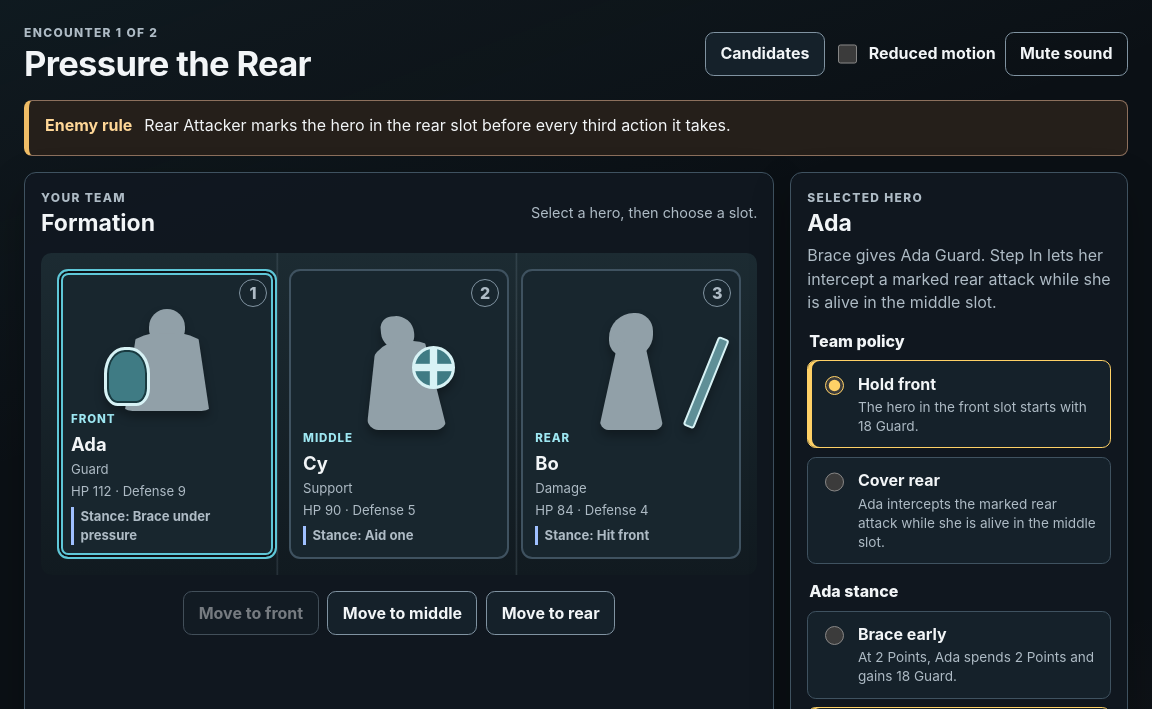
Test: candidate draft lab › records one favorite and clears it when the player asks for a new set
Click the button "Candidates" at {"x": 765, "y": 54}, box [705,32,825,76]
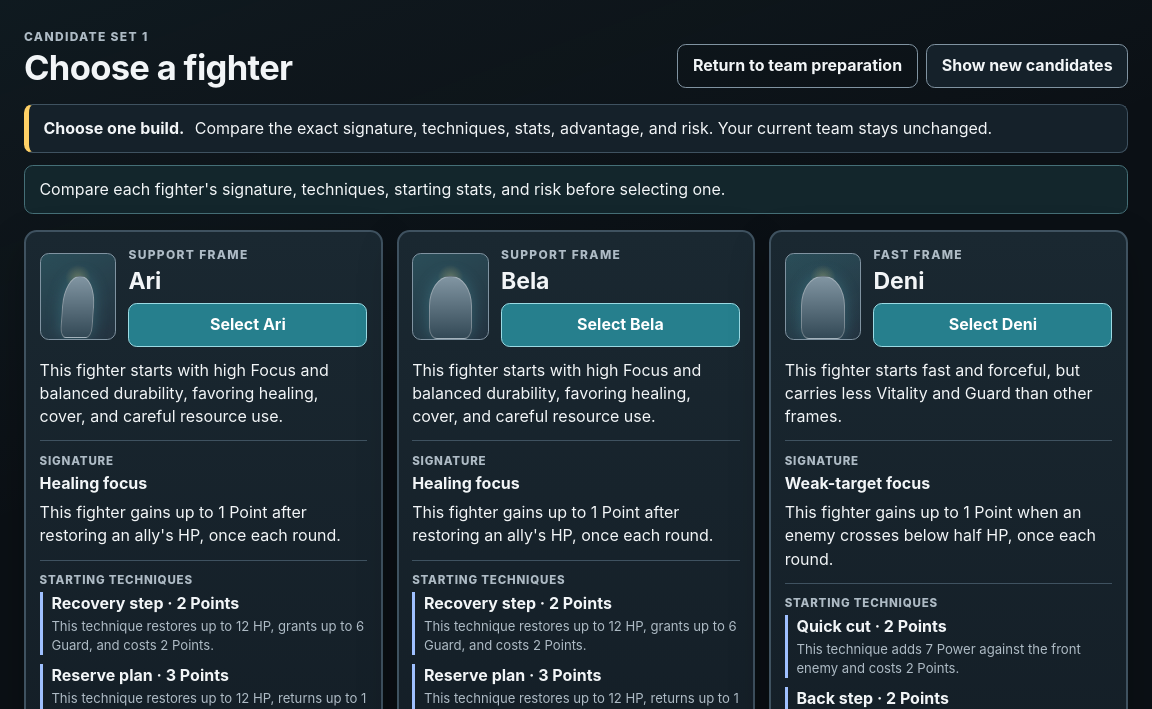
Click the button "Select Ari" at {"x": 248, "y": 325}, box [128,303,367,347]
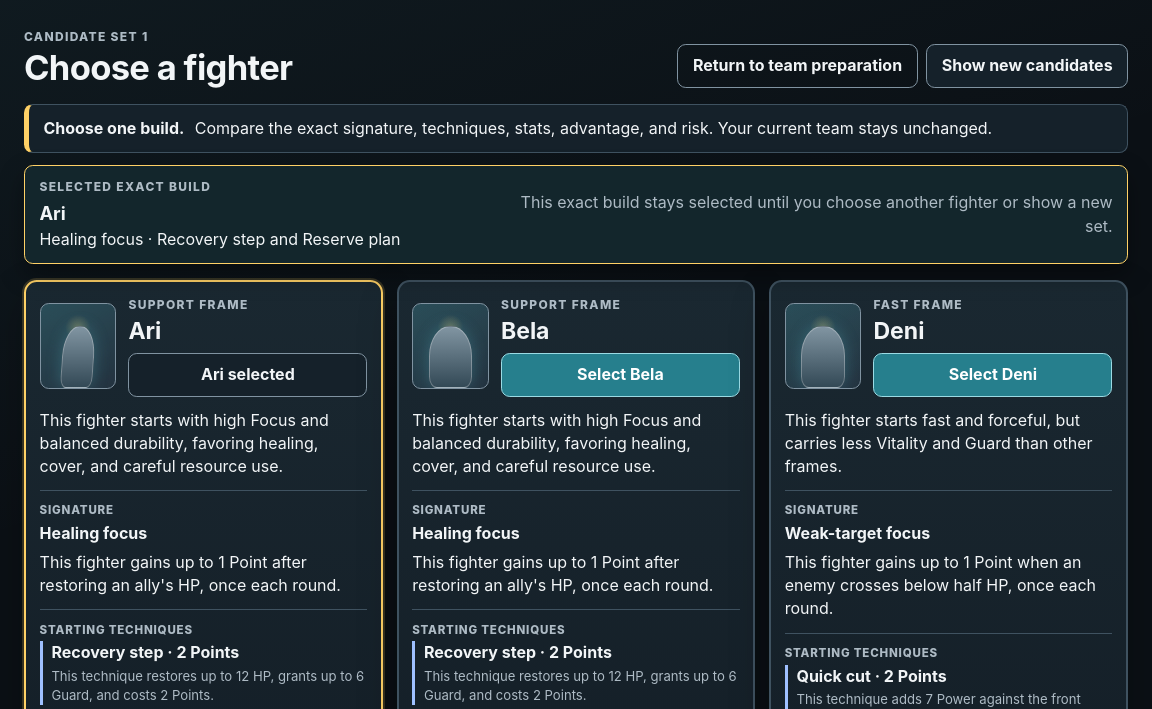
Expected: the message named "Selected fighter" shows "Selected exact build", [39,179,211,194]
Expected: the message named "Selected fighter" shows "This exact build stays selected", [521,192,1113,236]
Click the button "Show new candidates" at {"x": 1027, "y": 66}, box [926,44,1128,88]
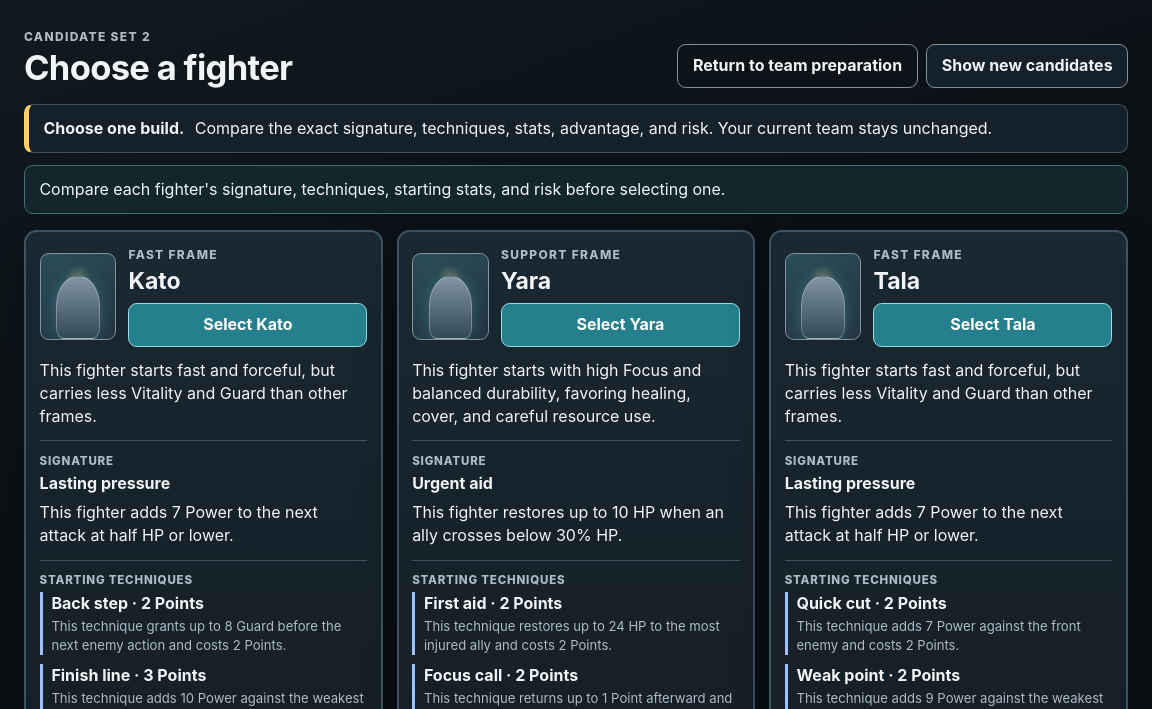
Expected: the text "Candidate set 2" is shown, [24,29,151,44]
